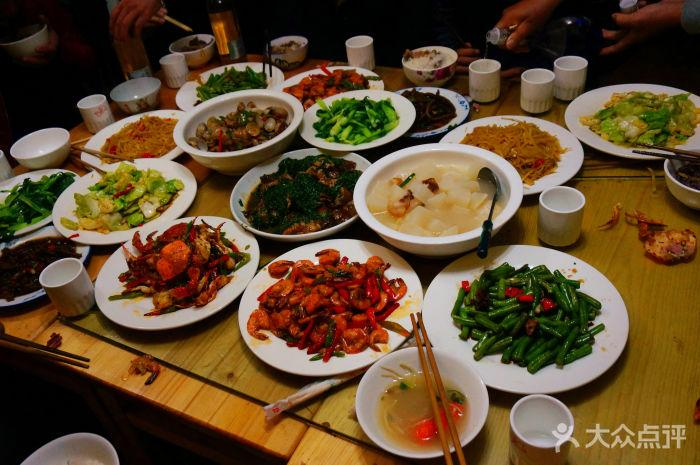food: (436, 237, 623, 387), (235, 231, 418, 375), (98, 206, 256, 333), (352, 134, 514, 255), (350, 333, 488, 459), (233, 143, 369, 242), (53, 150, 200, 239), (282, 62, 409, 152), (446, 107, 580, 192), (180, 77, 297, 174), (575, 74, 697, 159), (188, 56, 283, 106), (92, 111, 182, 159), (395, 81, 467, 141), (403, 37, 457, 86)
